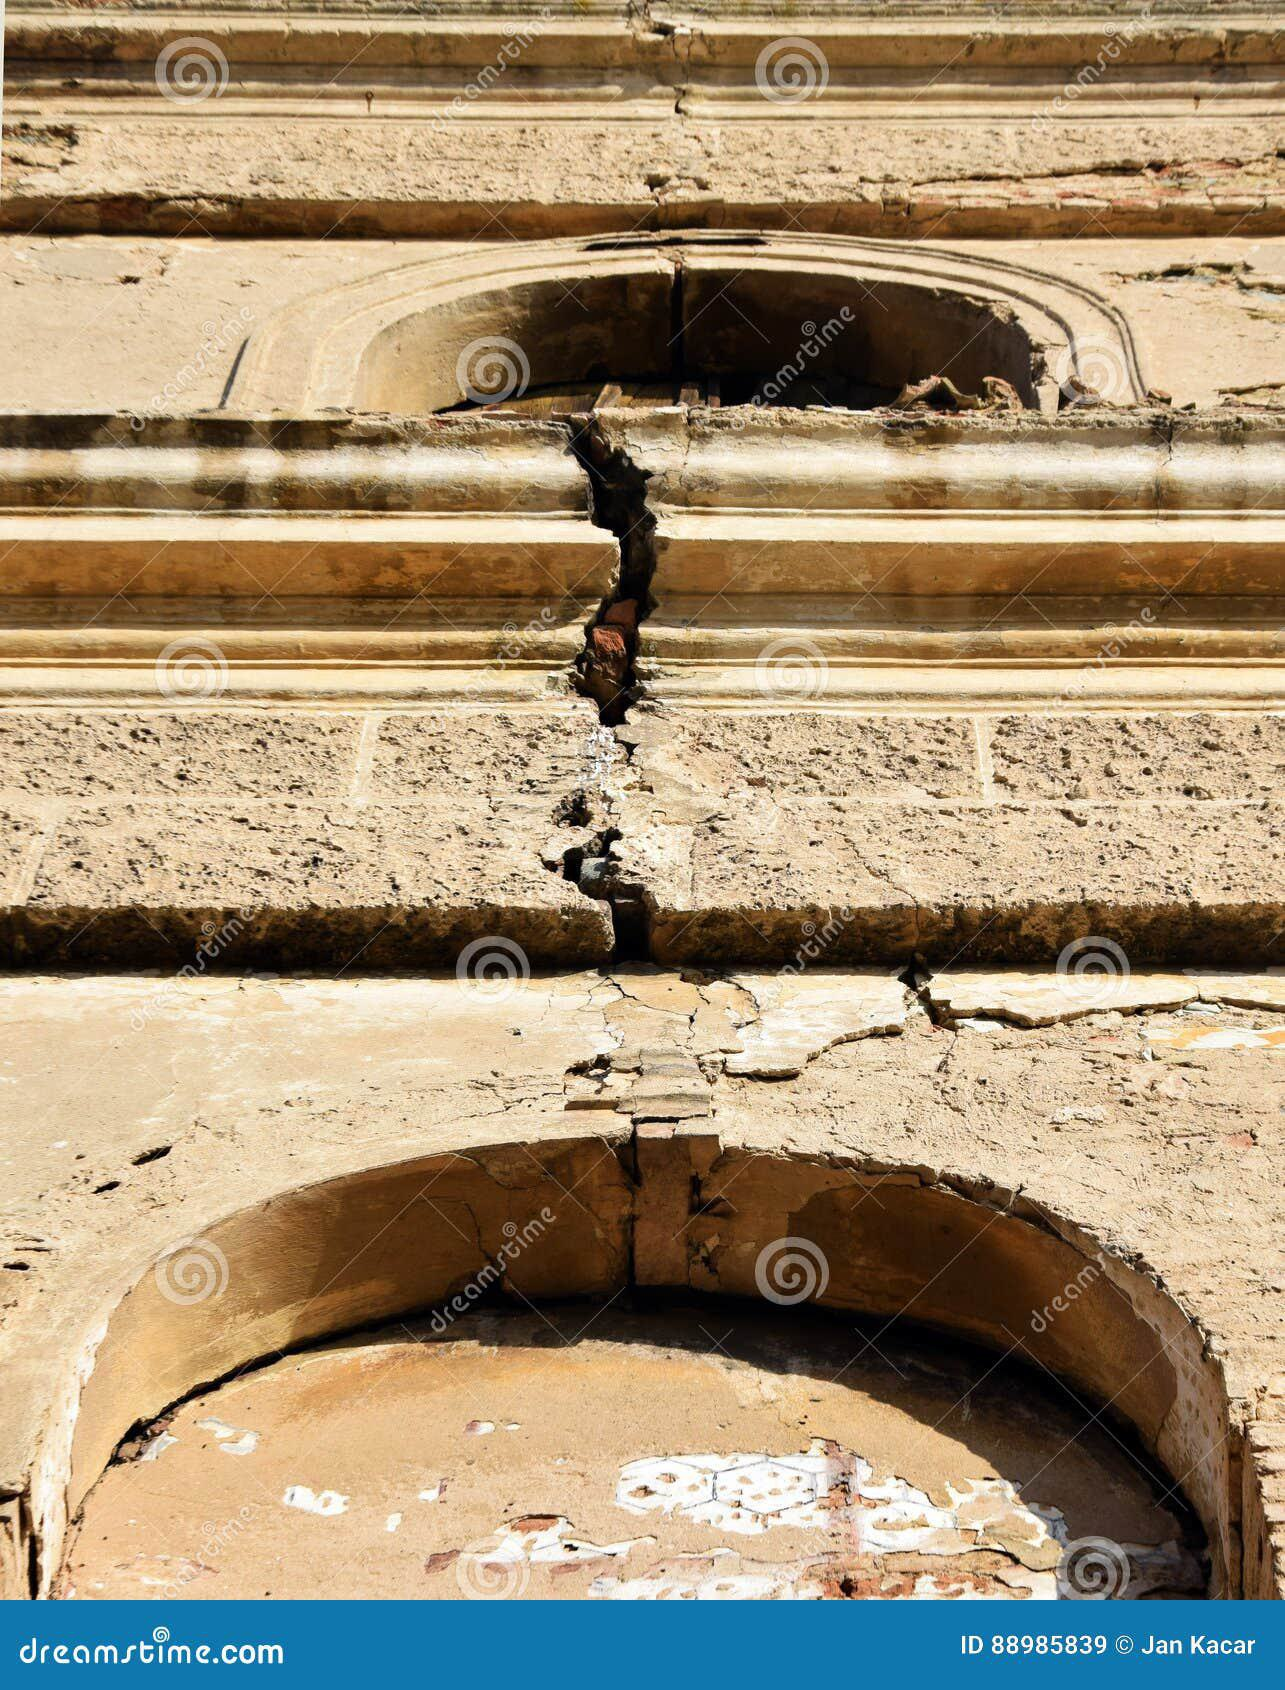crack: (530, 387, 680, 751), (539, 799, 696, 979)
